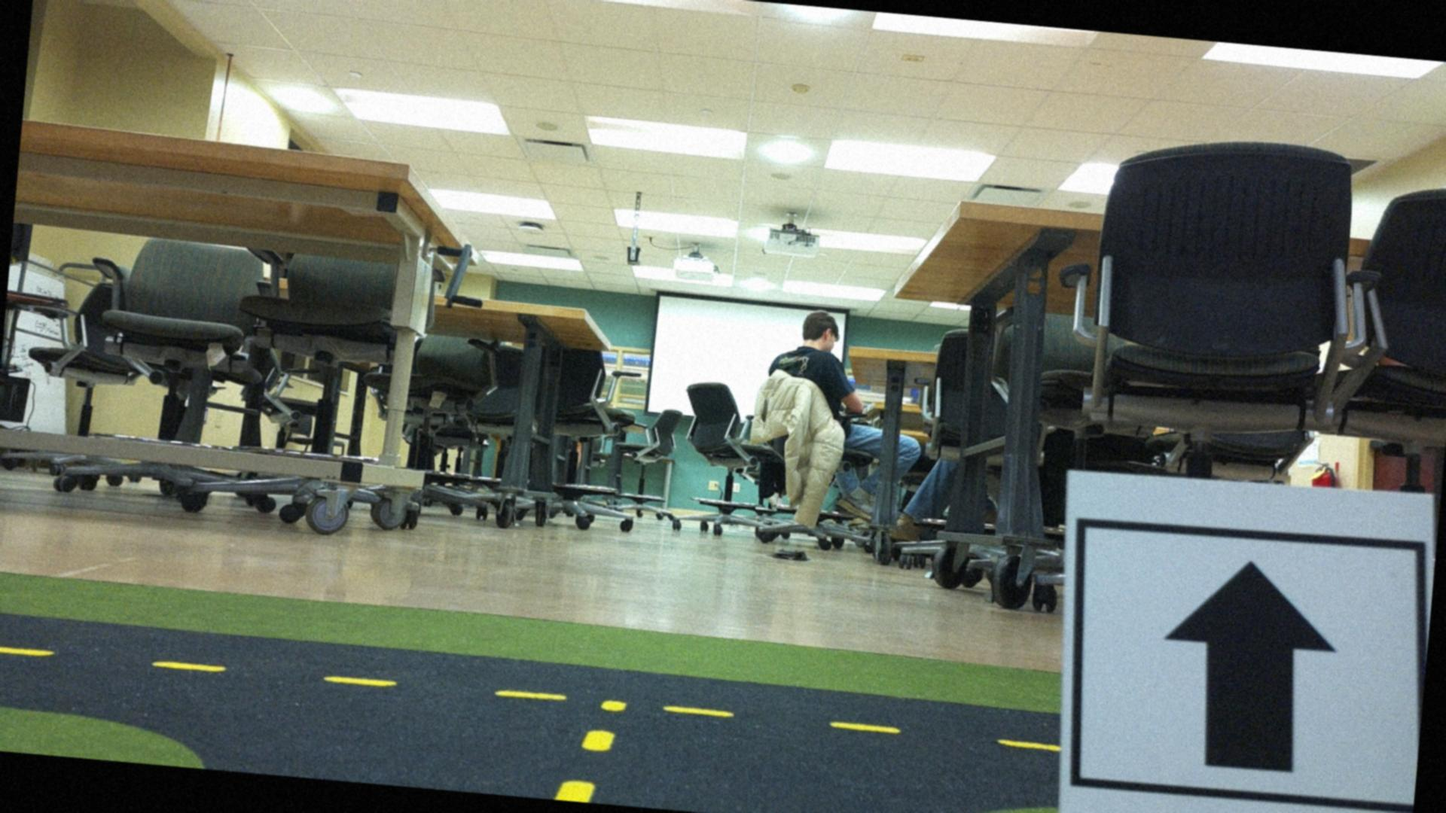gostraight: (1060, 477, 1437, 812)
yellowline: (0, 640, 1063, 753), (555, 689, 624, 805)
